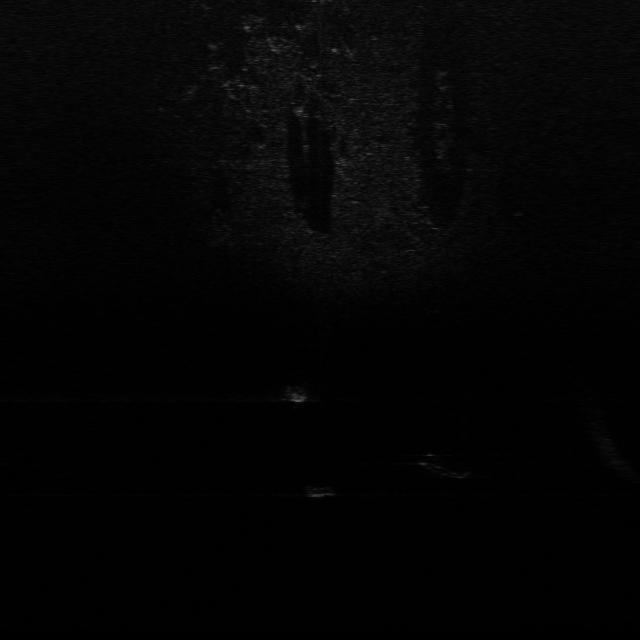cube: (297, 483, 341, 499)
square cage: (280, 381, 316, 403)
tyre: (416, 448, 474, 481)
